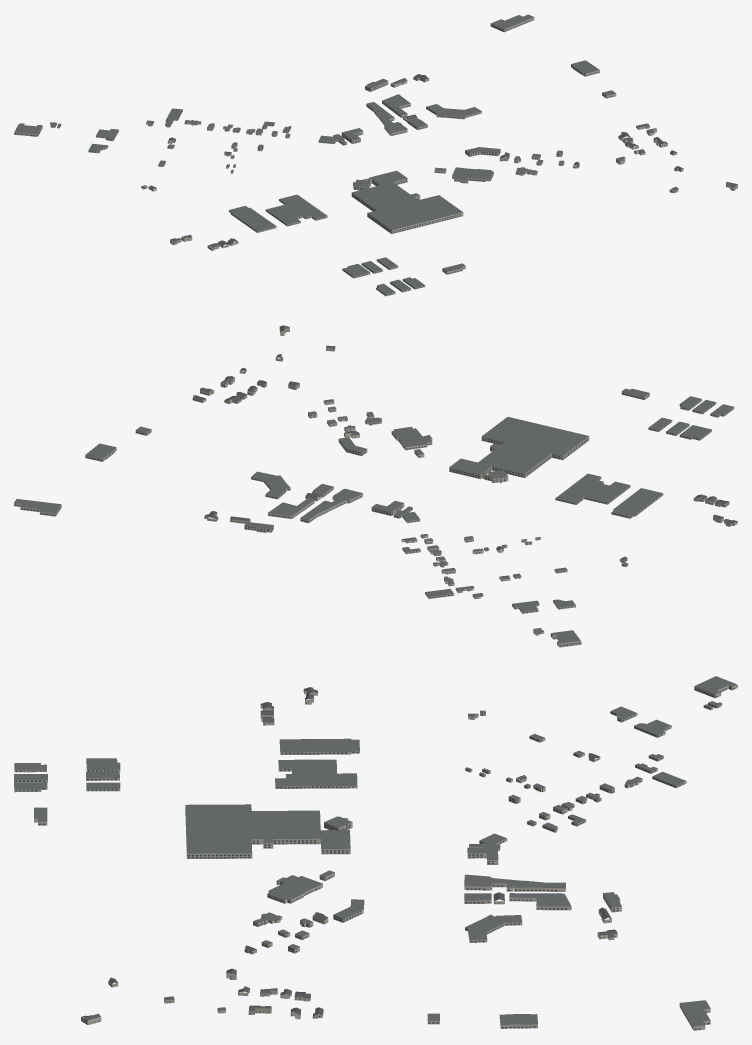
The picture shows the model from 3 angles, top to bottom: view 1: azimuth 30°, elevation 25°; view 2: azimuth 150°, elevation 25°; view 3: azimuth 270°, elevation 25°; orthographic projection. The views are drawn at different scales.
Visible parts, largest first — view 1: Buildings (-2, -1) Roof membrane, Buildings (-2, -1) Masonry brick, Buildings (-2, -1) Architectural tinted glass, Buildings (-2, -1) Roof shingles; view 2: Buildings (-2, -1) Roof membrane, Buildings (-2, -1) Masonry brick, Buildings (-2, -1) Architectural tinted glass, Buildings (-2, -1) Roof shingles; view 3: Buildings (-2, -1) Roof membrane, Buildings (-2, -1) Masonry brick, Buildings (-2, -1) Architectural tinted glass, Buildings (-2, -1) Roof shingles, Buildings (-2, -1) Metal coping.
Boxes of the visible parts, x1=… form: Buildings (-2, -1) Roof membrane: x1=14, y1=14, x2=615, y2=294; Buildings (-2, -1) Masonry brick: x1=14, y1=17, x2=737, y2=296; Buildings (-2, -1) Architectural tinted glass: x1=14, y1=19, x2=737, y2=295; Buildings (-2, -1) Roof shingles: x1=149, y1=74, x2=737, y2=248; Buildings (-2, -1) Roof membrane: x1=14, y1=388, x2=733, y2=645; Buildings (-2, -1) Masonry brick: x1=14, y1=327, x2=737, y2=647; Buildings (-2, -1) Architectural tinted glass: x1=14, y1=330, x2=734, y2=646; Buildings (-2, -1) Roof shingles: x1=193, y1=325, x2=737, y2=579; Buildings (-2, -1) Roof membrane: x1=14, y1=676, x2=737, y2=1026; Buildings (-2, -1) Masonry brick: x1=14, y1=684, x2=737, y2=1030; Buildings (-2, -1) Architectural tinted glass: x1=14, y1=687, x2=734, y2=1029; Buildings (-2, -1) Roof shingles: x1=81, y1=687, x2=617, y2=1020; Buildings (-2, -1) Metal coping: x1=14, y1=677, x2=737, y2=1026.
Bounding box in the file's own units: 1024 × 20.54 × 907.
